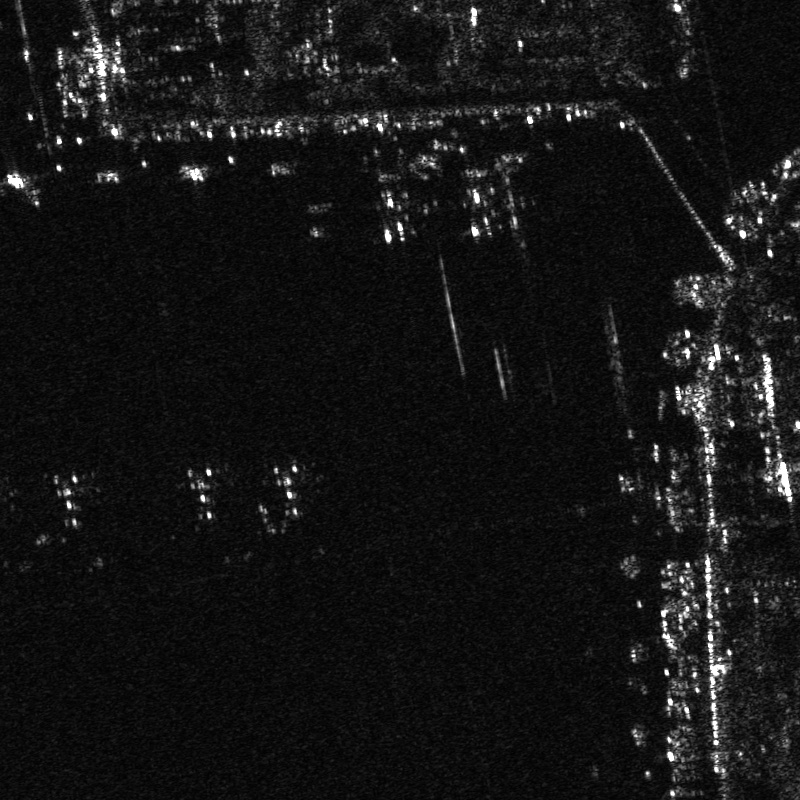ARJ21: (357, 166, 432, 246)
Boeing737: (449, 164, 518, 243)
other: (252, 455, 322, 525), (38, 463, 100, 539), (175, 459, 224, 529)
